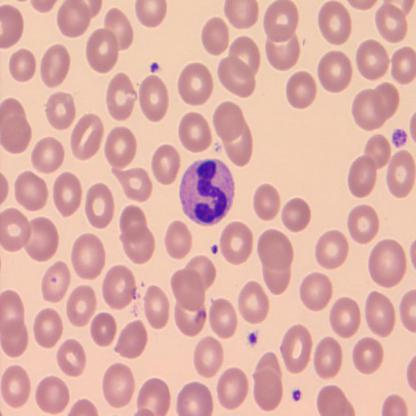Segmented neutrophil: (178, 159, 236, 225)
